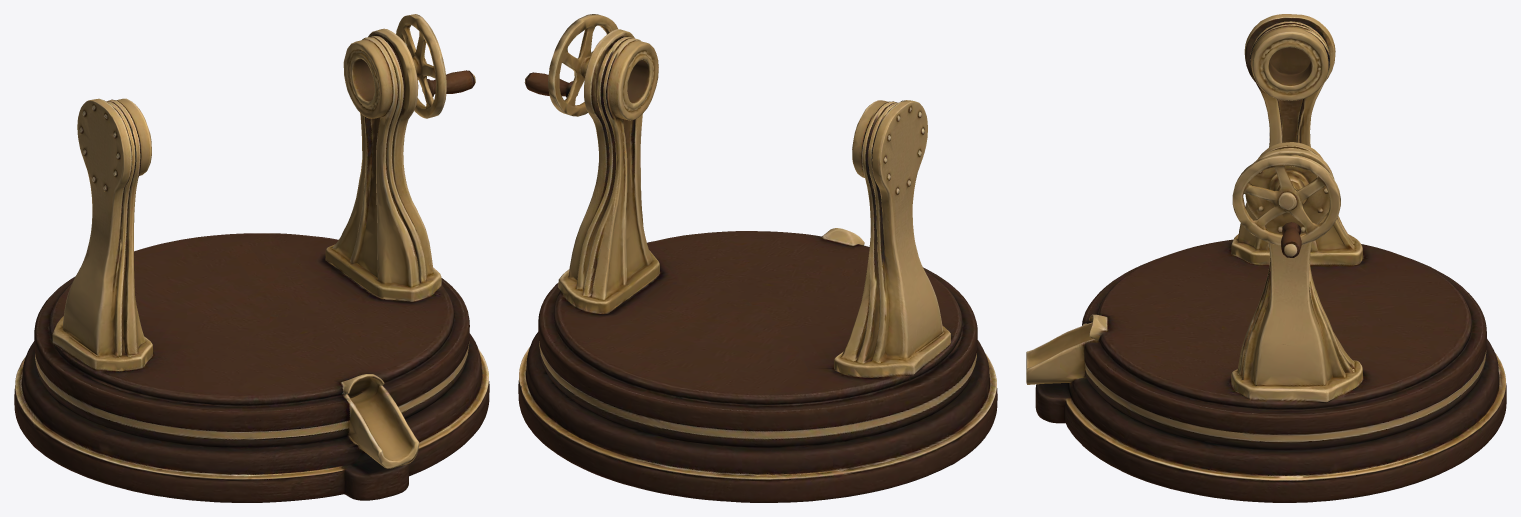
File: drum-cradle-1k.glb
The picture shows the model from 3 angles, left to right: view 1: azimuth 30°, elevation 25°; view 2: azimuth 150°, elevation 25°; view 3: azimuth 270°, elevation 25°; orthographic projection. The views are drawn at different scales.
Parts seen in each view (by area): view 1: tripo_node_f51d1e09-87a1-4f5f-87d1-89eed6859601; view 2: tripo_node_f51d1e09-87a1-4f5f-87d1-89eed6859601; view 3: tripo_node_f51d1e09-87a1-4f5f-87d1-89eed6859601.
Part boxes in pixels (left/top/right/bottom): tripo_node_f51d1e09-87a1-4f5f-87d1-89eed6859601: left=14, top=14, right=489, bottom=502; tripo_node_f51d1e09-87a1-4f5f-87d1-89eed6859601: left=518, top=14, right=997, bottom=502; tripo_node_f51d1e09-87a1-4f5f-87d1-89eed6859601: left=1026, top=14, right=1506, bottom=502.
Size of the model in its own units: 1 by 0.7578 by 0.9943.
Materials: 1 (1 with a texture image).
